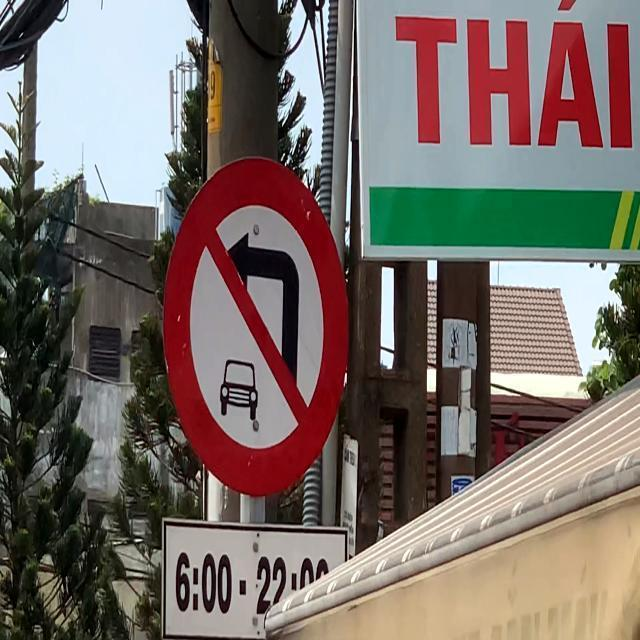123a-cam-re-trai: (158, 155, 350, 498)
